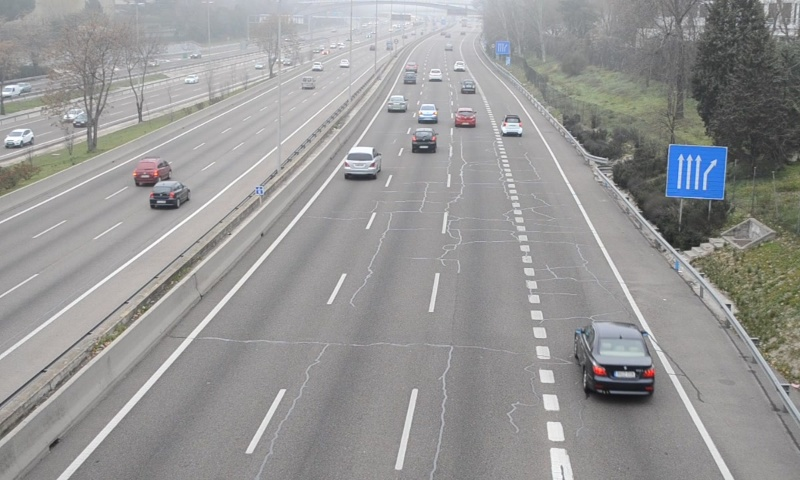car: (575, 322, 654, 398), (341, 145, 381, 178), (410, 127, 438, 154), (500, 114, 523, 138), (454, 106, 477, 129), (418, 102, 438, 124), (387, 95, 408, 113), (459, 78, 475, 95)
